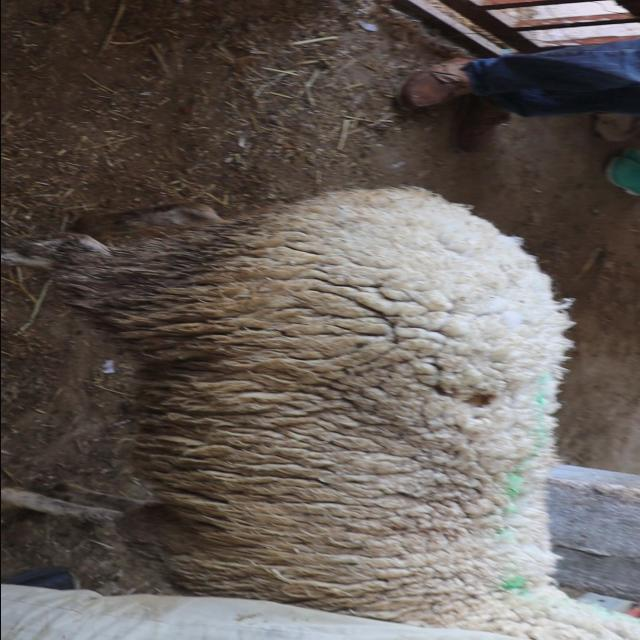Score_3: (1, 186, 640, 640)
